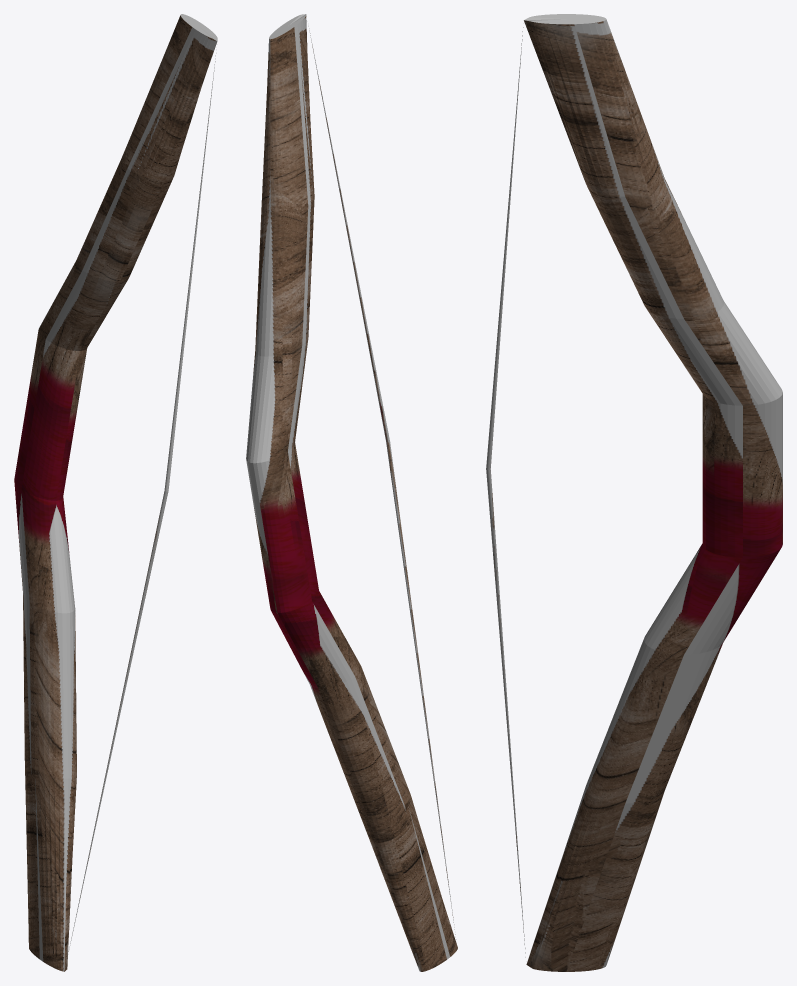
Rendered from Protagonista11.obj.
3 views of the same model, side by side, from view 1: azimuth 30°, elevation 25°; view 2: azimuth 150°, elevation 25°; view 3: azimuth 270°, elevation 25° (orthographic). The views are drawn at different scales.
Visible parts, largest first — view 1: Cilindro; view 2: Cilindro; view 3: Cilindro.
Part boxes in pixels (x1=…): Cilindro: x1=14, y1=14, x2=217, y2=971; Cilindro: x1=246, y1=14, x2=457, y2=971; Cilindro: x1=486, y1=14, x2=782, y2=971.
Bounding box in the file's own units: 0.1877 × 0.9705 × 0.2524.
Materials: 1 (1 with a texture image).
